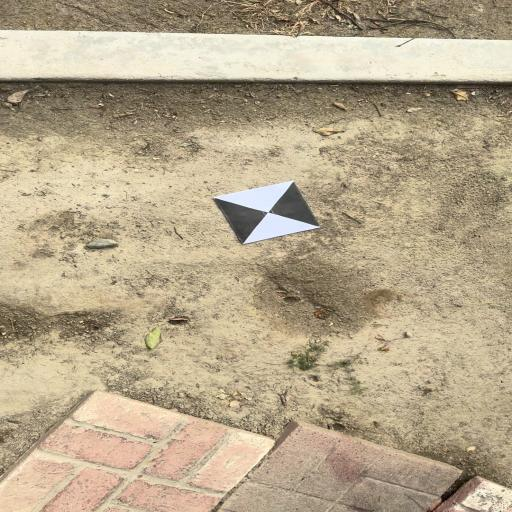target: (214, 181, 322, 244)
